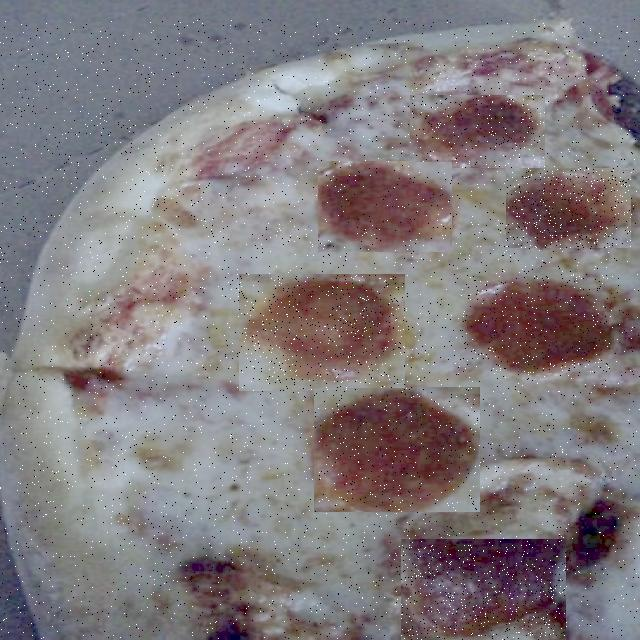Pepperoni: (314, 388, 480, 512), (239, 275, 405, 391), (402, 540, 568, 640), (460, 271, 611, 373), (318, 162, 452, 252), (506, 170, 631, 250), (410, 96, 545, 168)
Pizza: (0, 19, 640, 639)
